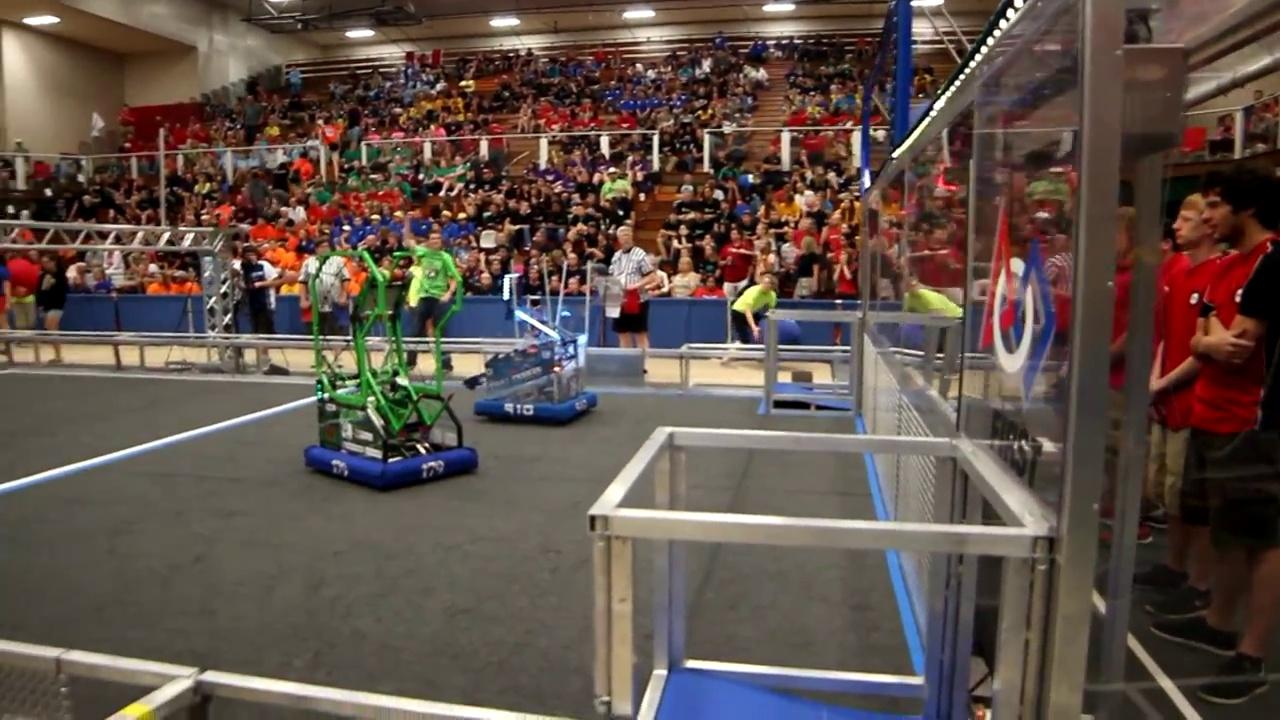robot: (302, 245, 481, 499), (462, 271, 602, 431)
